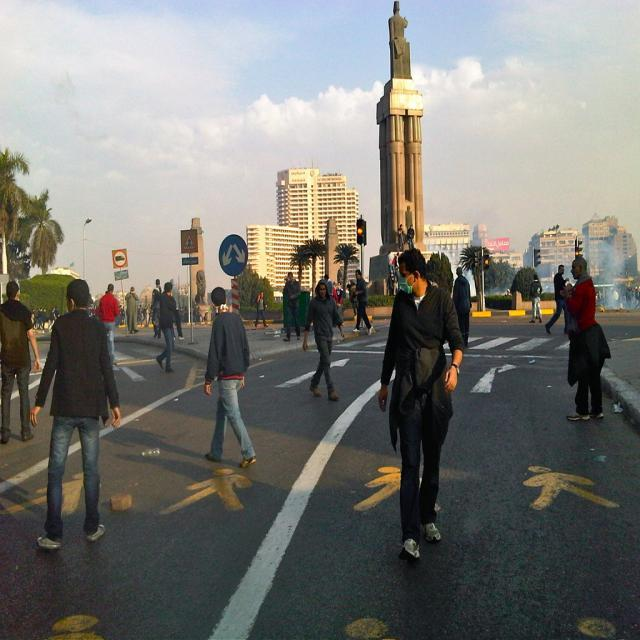off traffic light: (532, 246, 542, 268)
road_sign: (219, 234, 249, 276)
traffic light: (356, 219, 366, 243)
